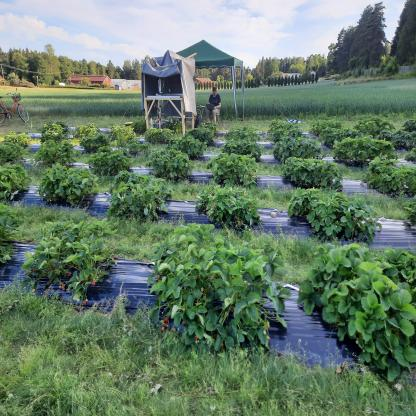ripe: (206, 194, 254, 248)
